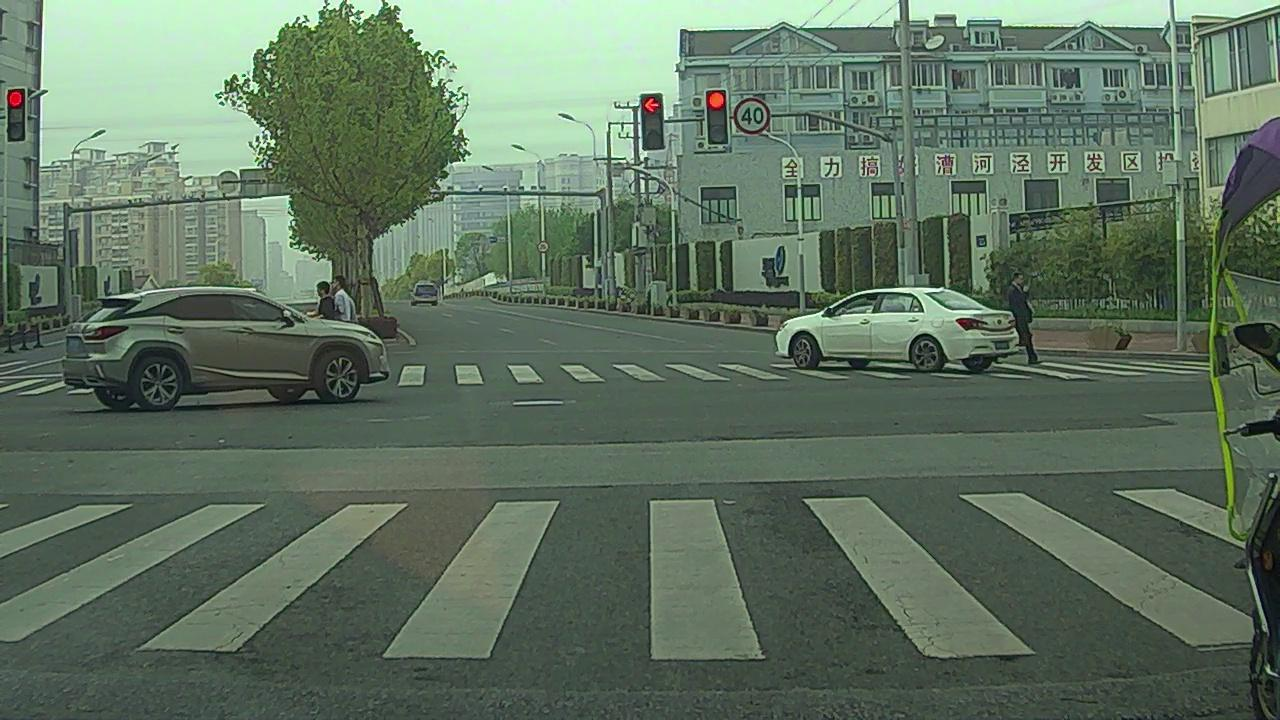traffic_light: (641, 95, 665, 150), (708, 91, 728, 143), (8, 90, 27, 141)
